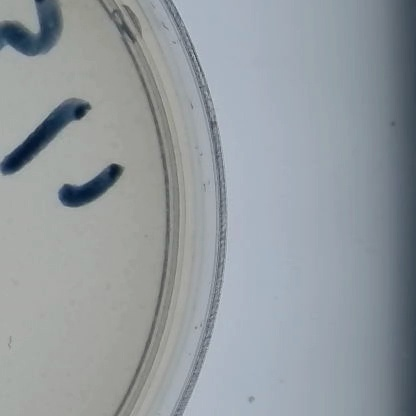worm: (0, 334, 16, 354)
